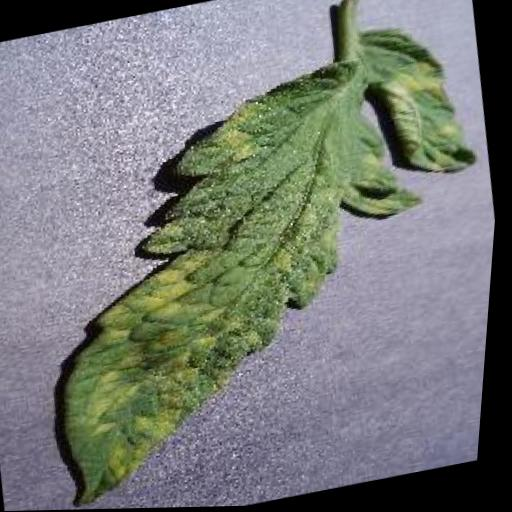Leaf Mold: (5, 10, 511, 511)
